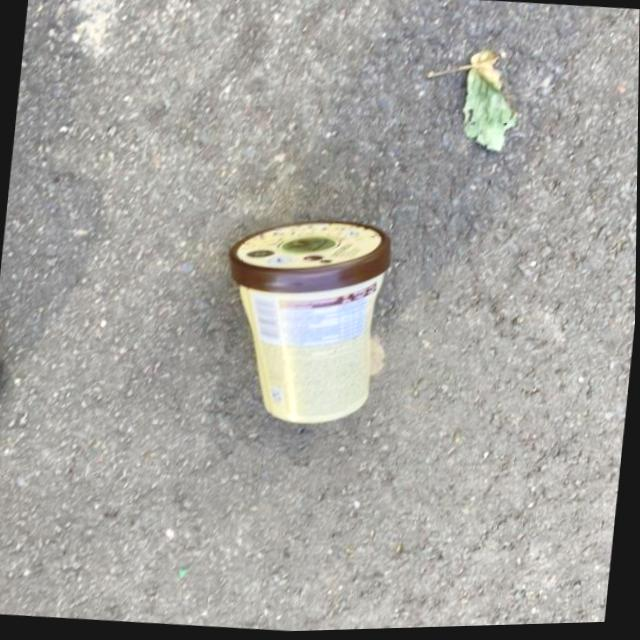Paper: (208, 207, 397, 436)
